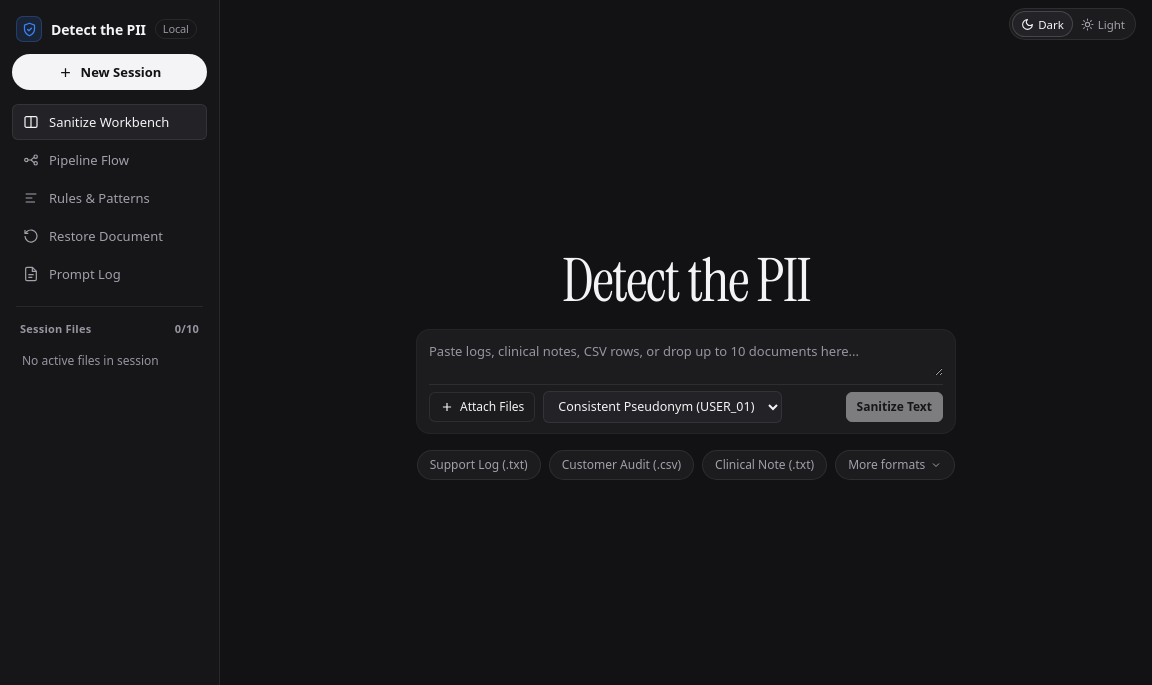
PII Sanitizer Workbench UI Integration › prevents XSS injection in pasted text and handles Unicode/RTL safely
Replace the text in the text box named "paste text to sanitize" with "<script>window.__xss=true</script><img src=x onerror=\"alert(1)\"> مرحبا 🛡️ rahul@acme.example" at (686, 358), box [429,340,943,376]
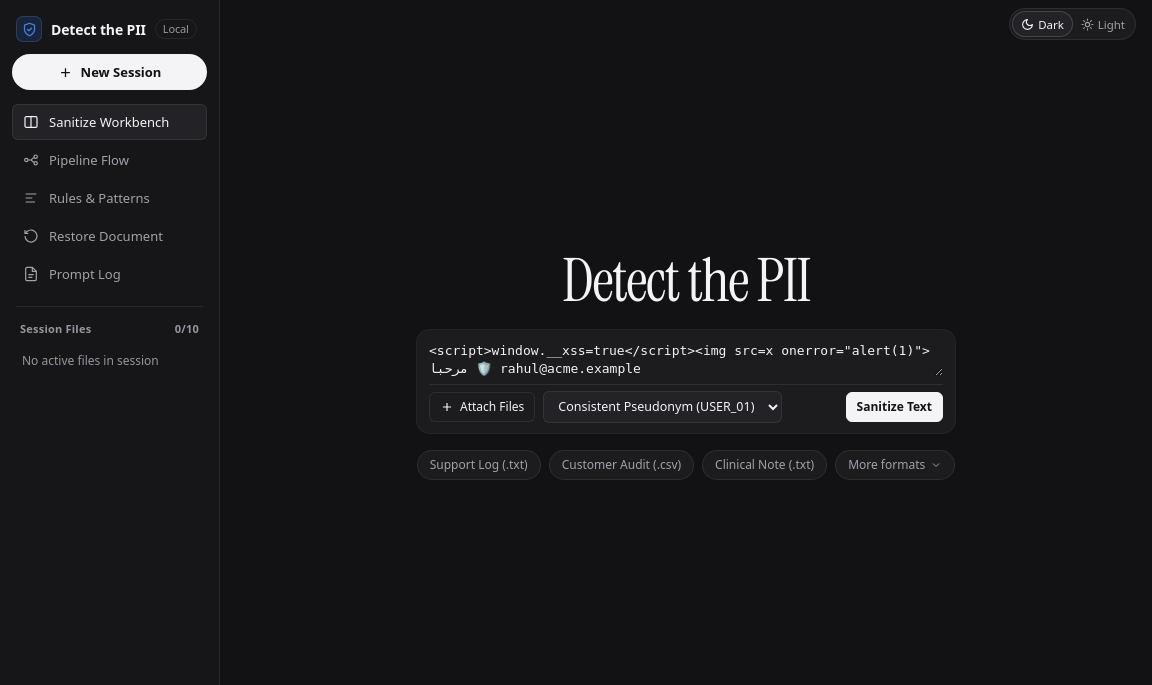
Click the button "Sanitize Text" at (894, 406), box [846,392,943,422]
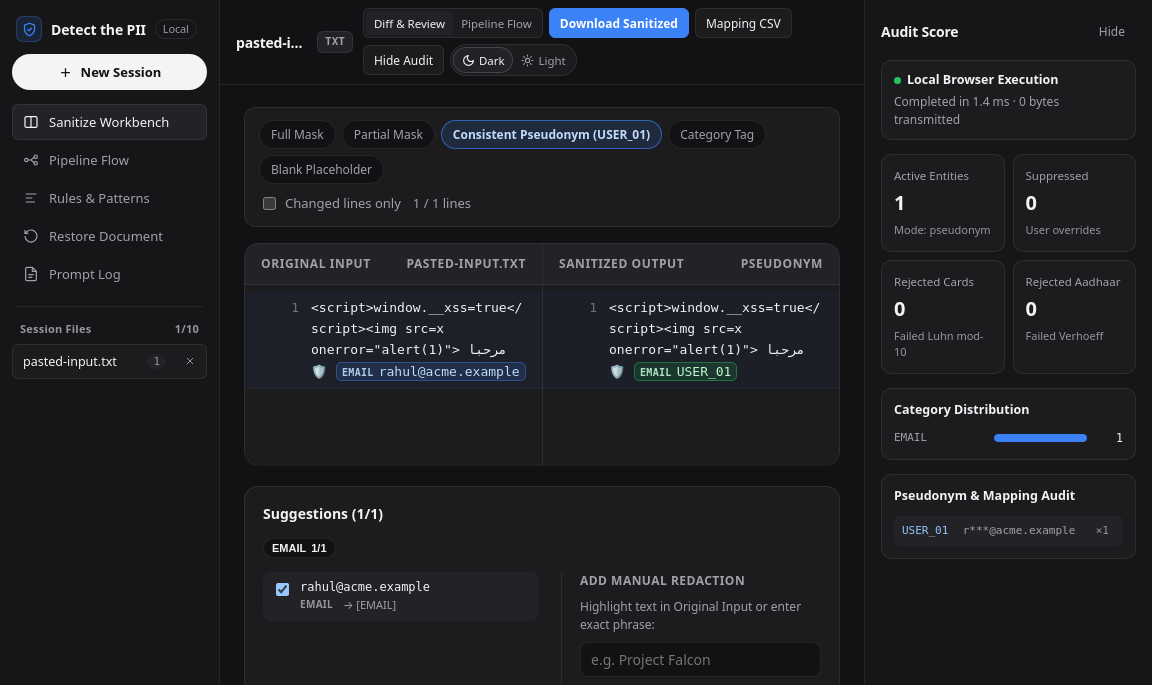
Expected: the 1st text "مرحبا" is shown, [311,300,522,379]
